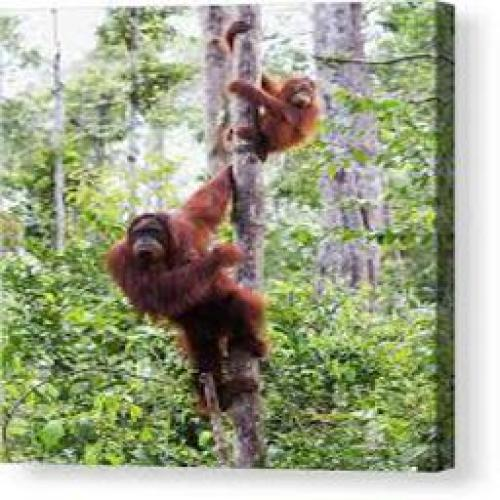orangutan-endangered: (101, 162, 274, 414), (219, 18, 318, 168)
